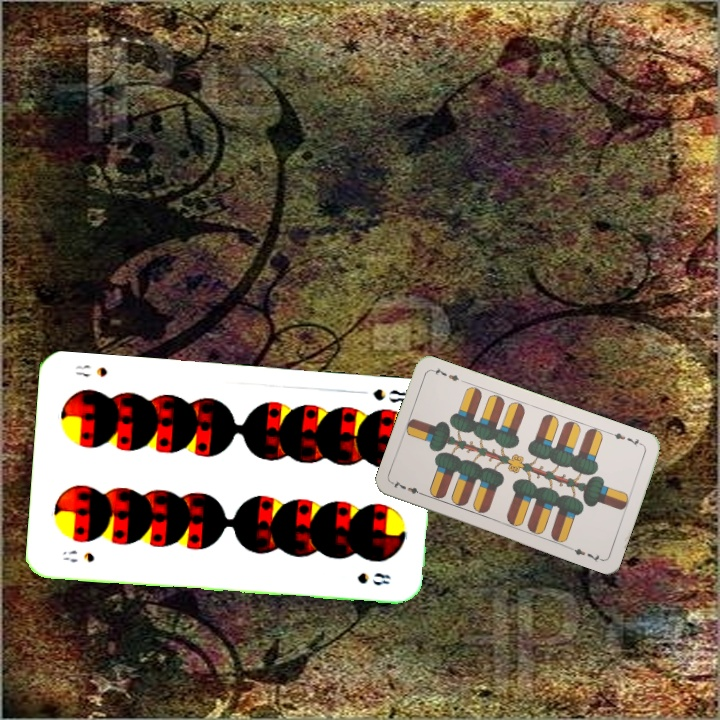E7: (389, 476, 428, 499), (606, 428, 646, 449)
S8: (369, 385, 409, 405), (58, 546, 97, 565)
